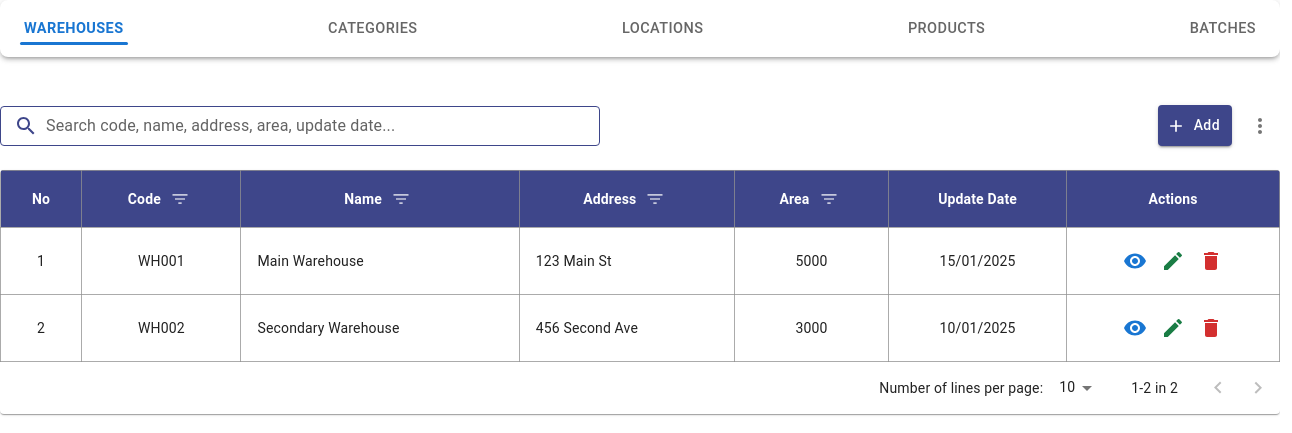
Warehouse Page - Integration Tests › Happy Path - Menu Navigation › switches to products menu and displays products
Click the button "Products" at (947, 29), box [892, 8, 1001, 49]
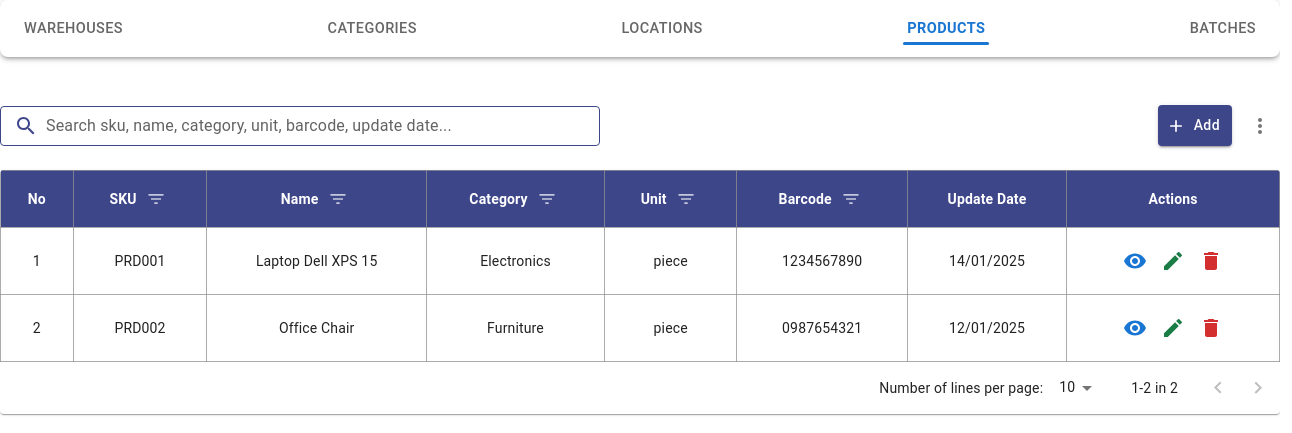
Result: the text "Laptop Dell XPS 15" is shown at [207, 227, 426, 294]
Result: the text "Office Chair" is shown at [207, 294, 426, 361]
